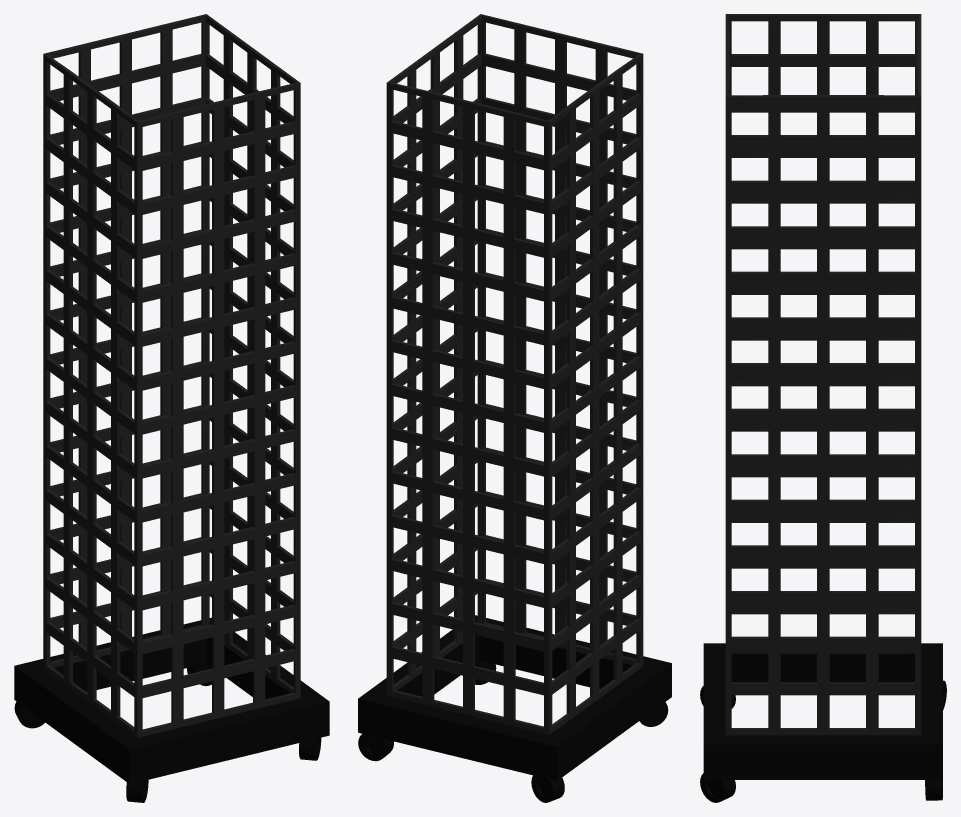
The model's file is Shelf_03_Square_Tall.glb.
3 views of the same model, side by side, from view 1: azimuth 30°, elevation 25°; view 2: azimuth 150°, elevation 25°; view 3: azimuth 270°, elevation 25° (orthographic). The views are drawn at different scales.
Parts seen in each view (by area): view 1: Mesh_Shelf_03_Square_Tall; view 2: Mesh_Shelf_03_Square_Tall; view 3: Mesh_Shelf_03_Square_Tall.
Boxes of the visible parts, x1=… form: Mesh_Shelf_03_Square_Tall: x1=14, y1=14, x2=329, y2=802; Mesh_Shelf_03_Square_Tall: x1=358, y1=14, x2=671, y2=802; Mesh_Shelf_03_Square_Tall: x1=700, y1=14, x2=946, y2=802.
Bounding box in the file's own units: 0.6246 × 1.97 × 0.6307.
Materials: 1 (1 with a texture image).
